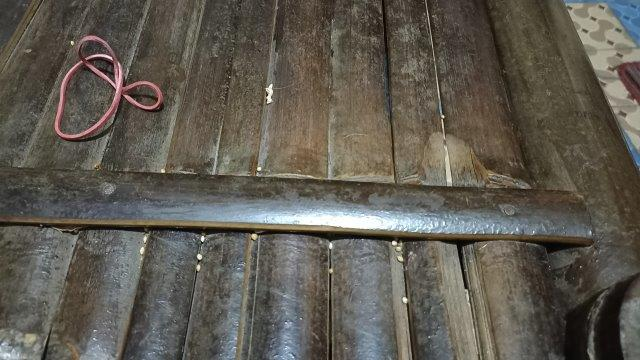karet: (54, 35, 163, 139)
